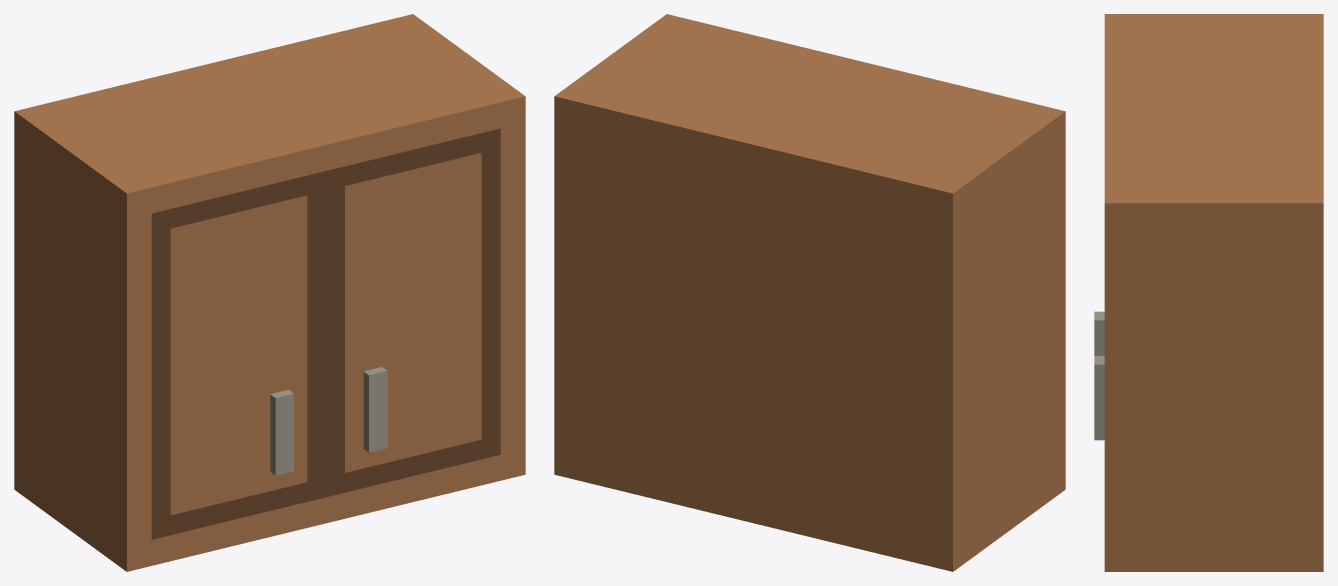
File: kitchenCabinetUpperDouble.glb
The picture shows the model from 3 angles, left to right: view 1: azimuth 30°, elevation 25°; view 2: azimuth 150°, elevation 25°; view 3: azimuth 270°, elevation 25°; orthographic projection. The views are drawn at different scales.
Parts seen in each view (by area): view 1: kitchenCabinetUpperDouble(Clone), Mesh_doorLeft_1, Mesh_doorRight, Mesh_doorLeft, Mesh_doorRight_2, Mesh_doorRight_1, Mesh_doorLeft_2; view 2: kitchenCabinetUpperDouble(Clone); view 3: kitchenCabinetUpperDouble(Clone), Mesh_doorRight_1, Mesh_doorLeft_2.
Boxes of the visible parts, x1,y1,x2,y2 form: kitchenCabinetUpperDouble(Clone): (14, 14, 525, 571); Mesh_doorLeft_1: (170, 195, 307, 515); Mesh_doorRight: (345, 153, 481, 472); Mesh_doorLeft: (151, 171, 326, 539); Mesh_doorRight_2: (326, 128, 500, 496); Mesh_doorRight_1: (363, 367, 387, 452); Mesh_doorLeft_2: (270, 389, 293, 475); kitchenCabinetUpperDouble(Clone): (554, 14, 1065, 571); kitchenCabinetUpperDouble(Clone): (1104, 14, 1323, 571); Mesh_doorRight_1: (1094, 356, 1104, 440); Mesh_doorLeft_2: (1094, 311, 1104, 355).
Bounding box in the file's own units: 0.86 × 0.78 × 0.44.
